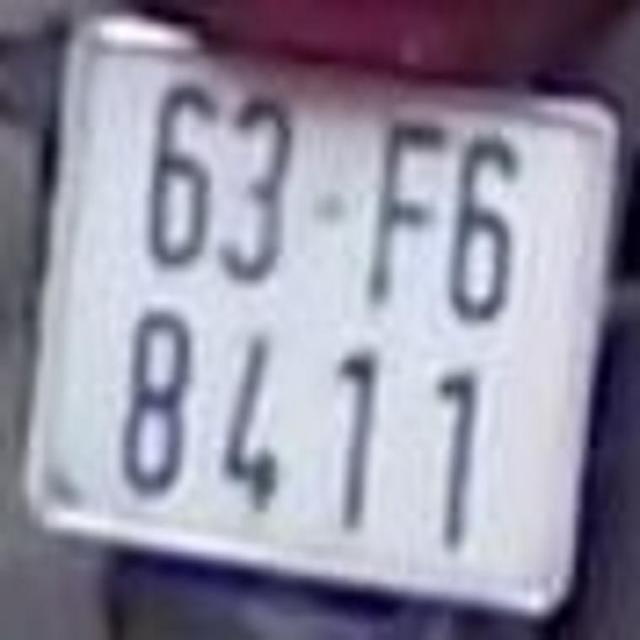1: (321, 343, 375, 538), (426, 360, 474, 555)
3: (221, 90, 293, 281)
4: (222, 325, 284, 514)
6: (449, 126, 519, 326), (147, 75, 212, 263)
8: (123, 300, 190, 502)
F: (365, 117, 442, 296)
